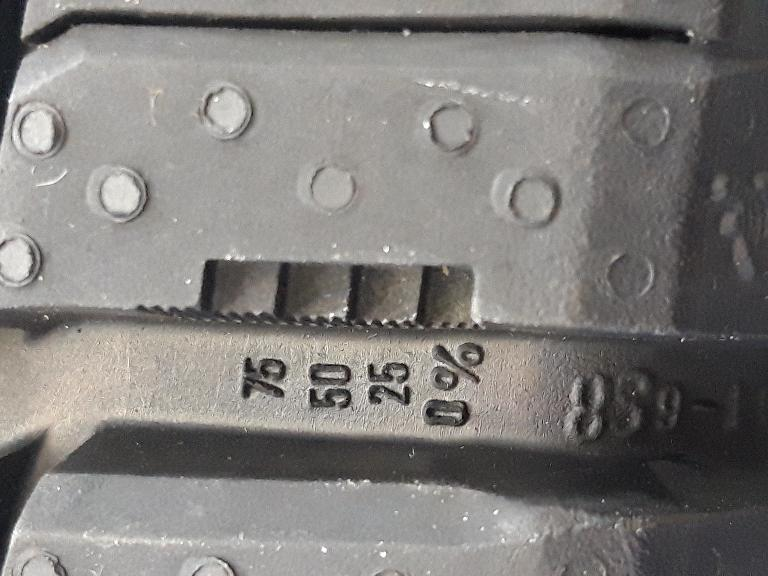temoin:100: (133, 254, 489, 342)
